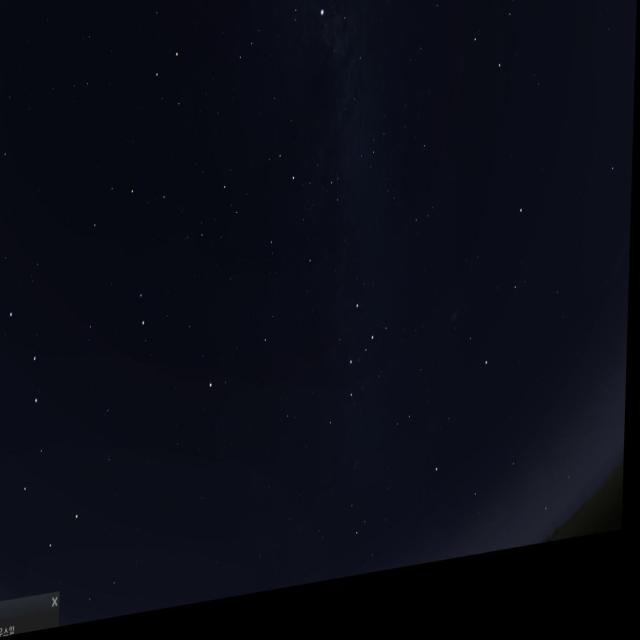cassiopeia: (324, 304, 394, 451)
ursa_major: (0, 295, 95, 583)
